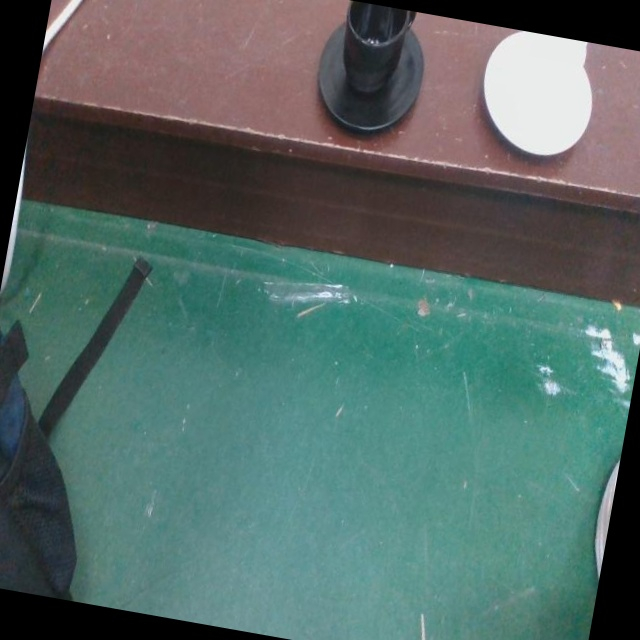black: (315, 5, 426, 139)
white: (480, 34, 595, 158)
